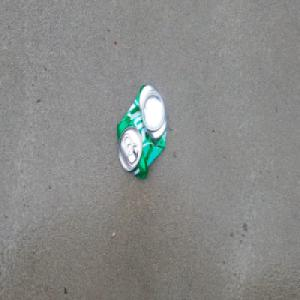SodaCan: (115, 81, 168, 181)
